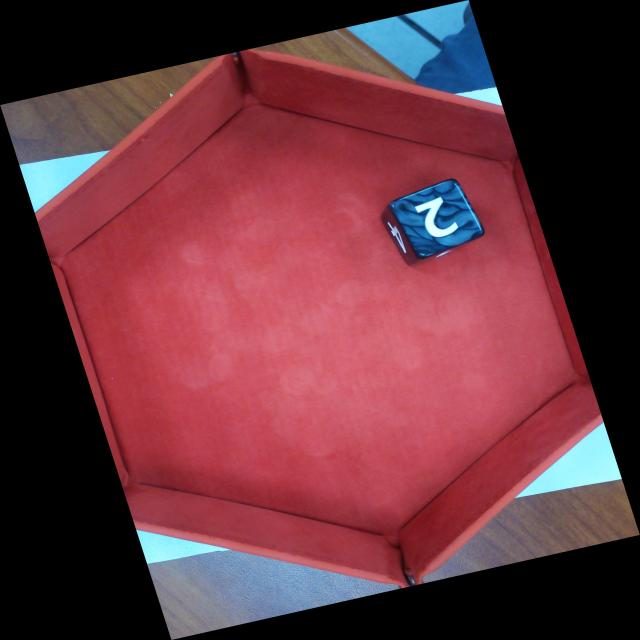dice: (398, 181, 485, 254)
